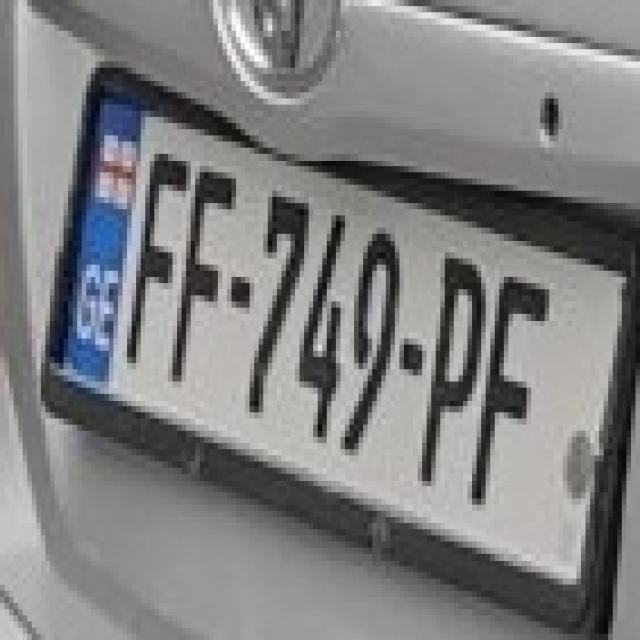4: (282, 190, 364, 450)
7: (232, 172, 314, 418)
9: (326, 210, 408, 456)
F: (458, 252, 550, 505), (159, 142, 236, 388), (118, 136, 195, 376)
P: (404, 240, 490, 492)
